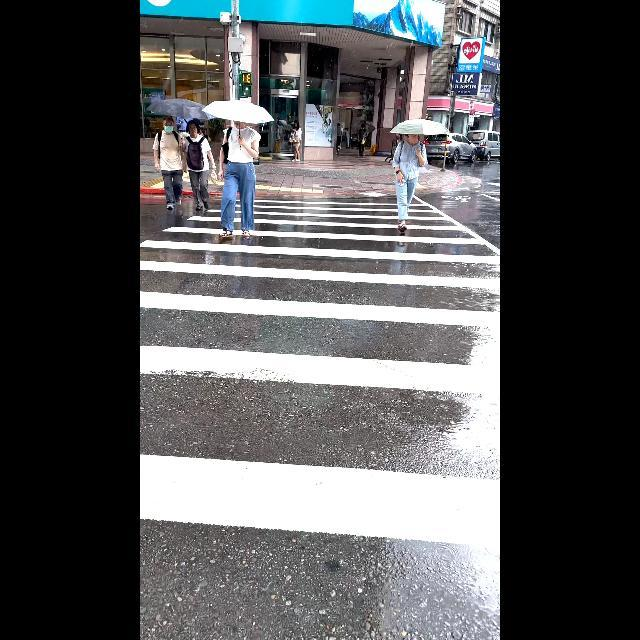sidewalk: (143, 191, 498, 636)
